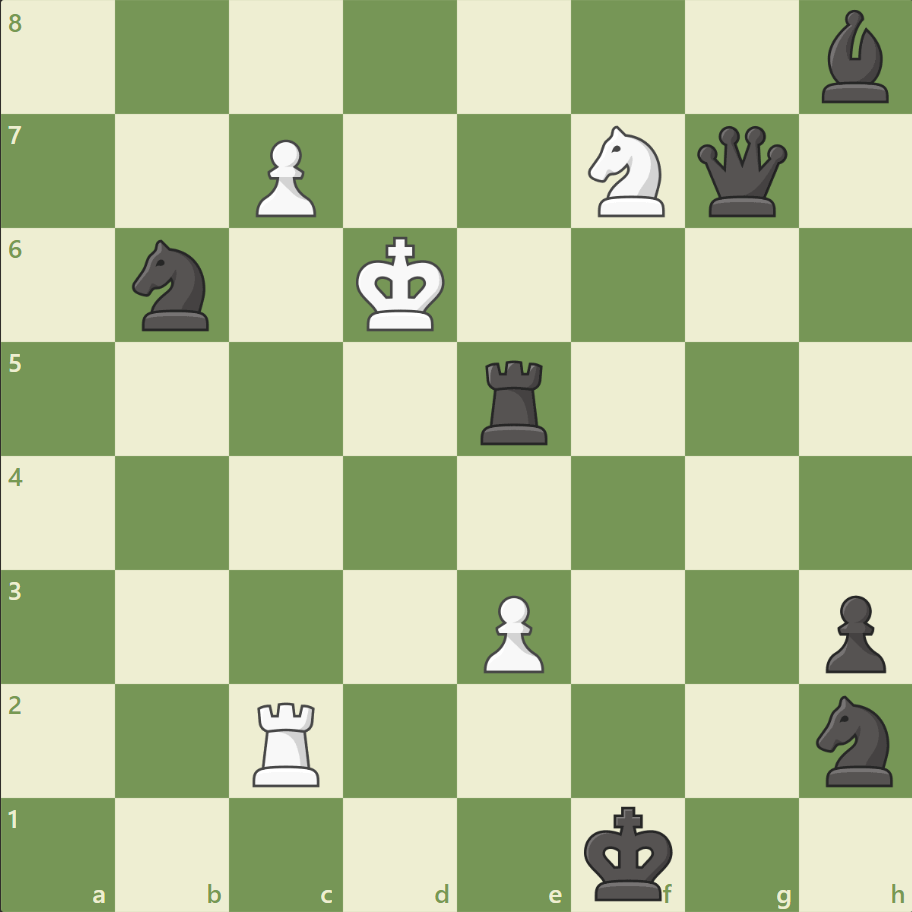K: (351, 231, 451, 339)
N: (579, 121, 676, 223)
P: (247, 132, 322, 223), (474, 586, 549, 677)
R: (246, 693, 329, 790)
b: (812, 6, 896, 109)
k: (579, 798, 679, 906)
n: (124, 234, 222, 337), (806, 688, 903, 791)
p: (815, 586, 889, 677)
q: (691, 122, 790, 222)
r: (473, 352, 556, 449)
